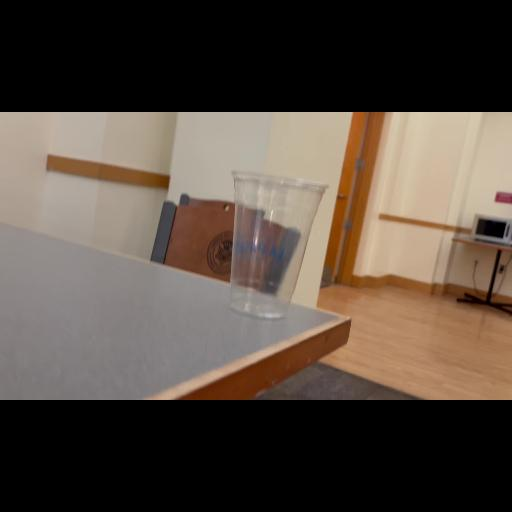lp_plastic_cup: (229, 172, 329, 318)
